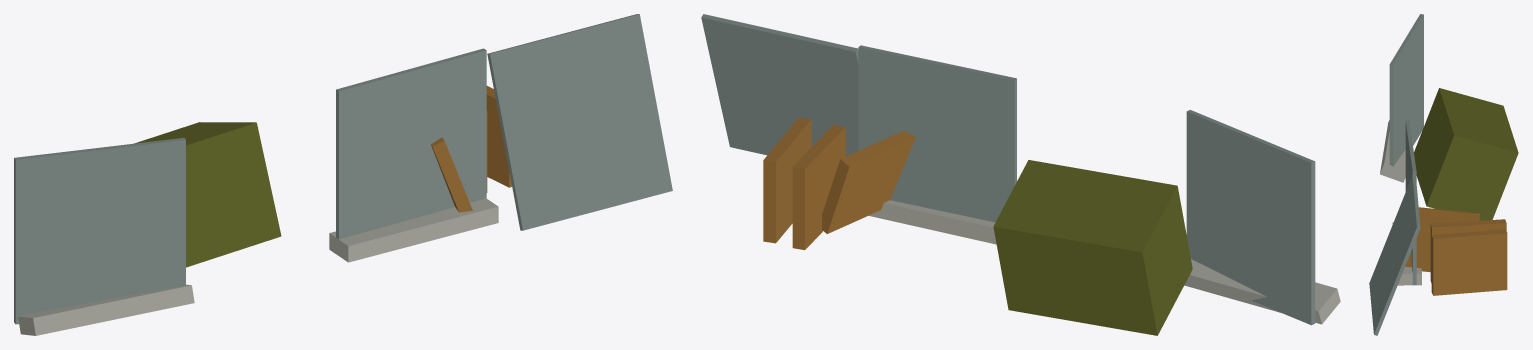
File: SM_BarricadaCivil_v2_Vallas_e1_Danado_LOD0.fbx
3 views of the same model, side by side, from view 1: azimuth 30°, elevation 25°; view 2: azimuth 150°, elevation 25°; view 3: azimuth 270°, elevation 25° (orthographic). The views are drawn at different scales.
Parts seen in each view (by area): view 1: SM_barricada_civil_v9_LOD0; view 2: SM_barricada_civil_v9_LOD0; view 3: SM_barricada_civil_v9_LOD0.
Boxes of the visible parts, left/top/right/bottom form: SM_barricada_civil_v9_LOD0: left=14, top=14, right=672, bottom=335; SM_barricada_civil_v9_LOD0: left=701, top=14, right=1340, bottom=335; SM_barricada_civil_v9_LOD0: left=1369, top=14, right=1518, bottom=335.
Bounding box in the file's own units: 7.98 × 2.15 × 2.37.
